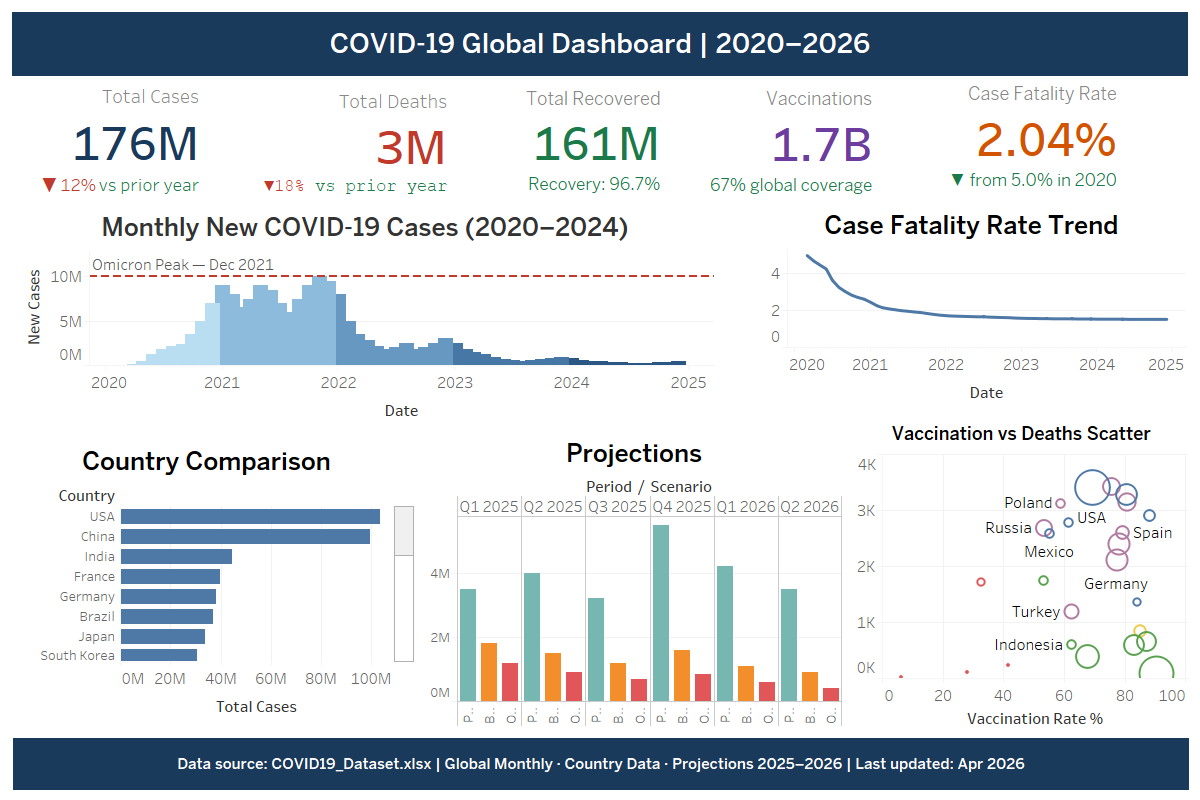

This screenshot's page, from the dashboard's own definition file:
{"tool":"tableau","page":{"name":"Dashboard 1","canvas":[1200,800],"ordinal":0},"visuals":[{"type":"text","box":[8,8,1184,72]},{"type":"worksheet","title":"Vaccinations","mark":"Automatic","box":[681,77,197,131]},{"type":"worksheet","title":"CFR","mark":"Automatic","box":[903,81,219,113]},{"type":"worksheet","title":"Total Cases","mark":"Automatic","box":[16,82,188,118]},{"type":"worksheet","title":"Total Deaths","mark":"Automatic","box":[218,85,235,117]},{"type":"worksheet","title":"Total Recovered","mark":"Automatic","box":[467,85,198,115]},{"type":"worksheet","title":"Sheet 2","mark":"Line","rows":["Case_Fatality_Rate_%"],"cols":["Date"],"box":[757,204,429,206]},{"type":"worksheet","title":"Sheet 1","mark":"Bar","rows":["New_Cases"],"cols":["Date"],"box":[16,206,698,222]},{"type":"worksheet","title":"Sheet 5","mark":"Automatic","rows":["Deaths_Per_Million"],"cols":["Vaccination_Rate_%"],"box":[850,417,338,312]},{"type":"worksheet","title":"Sheet 4","mark":"Bar","rows":["Projected_New_Cases"],"cols":["Period","Scenario"],"box":[425,432,418,294]},{"type":"worksheet","title":"Sheet 3","mark":"Bar","rows":["Country"],"cols":["Total_Cases"],"box":[20,439,394,285]},{"type":"text","box":[13,738,1176,52]}]}

Visuals, with their boxes in screenshot pixels (x1, y1, x2, y2), scaled from the page's 1200x800 canvas onto the 1200x800 screenshot:
text: 8, 8, 1192, 80
"Vaccinations" worksheet: 681, 77, 878, 208
"CFR" worksheet: 903, 81, 1122, 194
"Total Cases" worksheet: 16, 82, 204, 200
"Total Deaths" worksheet: 218, 85, 453, 202
"Total Recovered" worksheet: 467, 85, 665, 200
"Sheet 2" worksheet (Line marks): 757, 204, 1186, 410
"Sheet 1" worksheet (Bar marks): 16, 206, 714, 428
"Sheet 5" worksheet: 850, 417, 1188, 729
"Sheet 4" worksheet (Bar marks): 425, 432, 843, 726
"Sheet 3" worksheet (Bar marks): 20, 439, 414, 724
text: 13, 738, 1189, 790
